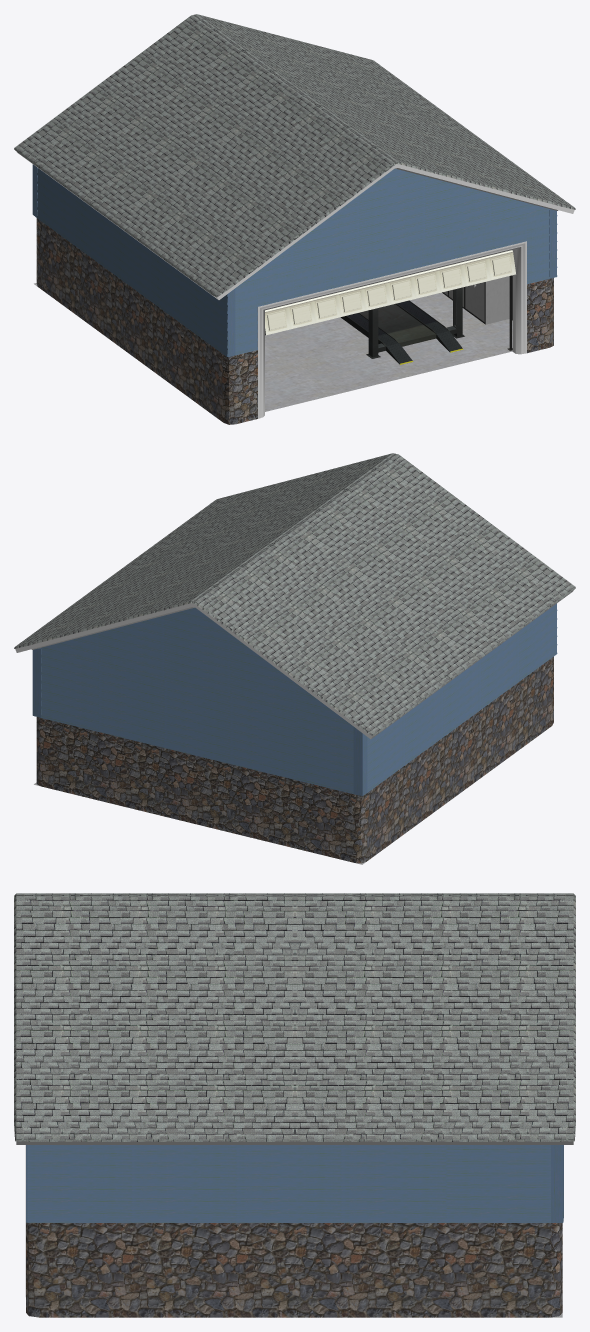
Rendered from Garage.fbx.
3 views of the same model, one above another, from view 1: azimuth 30°, elevation 25°; view 2: azimuth 150°, elevation 25°; view 3: azimuth 270°, elevation 25° (orthographic). The views are drawn at different scales.
Visible parts, largest first — view 1: Roof, UpperExteriorWall, LowerExteriorWall, Floor1, Garage_Bay_Door1, Car_Lift, BayTrim, LargToolbox; view 2: Roof, UpperExteriorWall, LowerExteriorWall; view 3: Roof, LowerExteriorWall, UpperExteriorWall.
Part boxes in pixels (left/top/right/bottom): Roof: left=14, top=14, right=575, bottom=299; UpperExteriorWall: left=32, top=164, right=557, bottom=357; LowerExteriorWall: left=36, top=218, right=553, bottom=424; Floor1: left=34, top=283, right=512, bottom=411; Garage_Bay_Door1: left=265, top=250, right=515, bottom=350; Car_Lift: left=340, top=287, right=464, bottom=364; BayTrim: left=257, top=241, right=526, bottom=418; LargToolbox: left=442, top=276, right=509, bottom=324; Roof: left=14, top=453, right=575, bottom=739; UpperExteriorWall: left=32, top=603, right=557, bottom=796; LowerExteriorWall: left=36, top=656, right=553, bottom=863; Roof: left=14, top=893, right=575, bottom=1144; LowerExteriorWall: left=26, top=1222, right=562, bottom=1317; UpperExteriorWall: left=26, top=1145, right=563, bottom=1222.
Size of the model in its own units: 1096 by 656 by 1073.
Materials: 17 (16 with a texture image).
